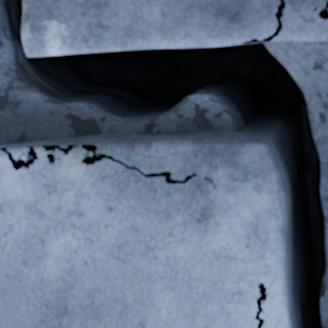brick: (0, 132, 295, 327), (22, 0, 279, 55), (274, 0, 327, 40)
crack: (0, 0, 327, 327), (254, 281, 267, 327), (314, 0, 327, 20)
